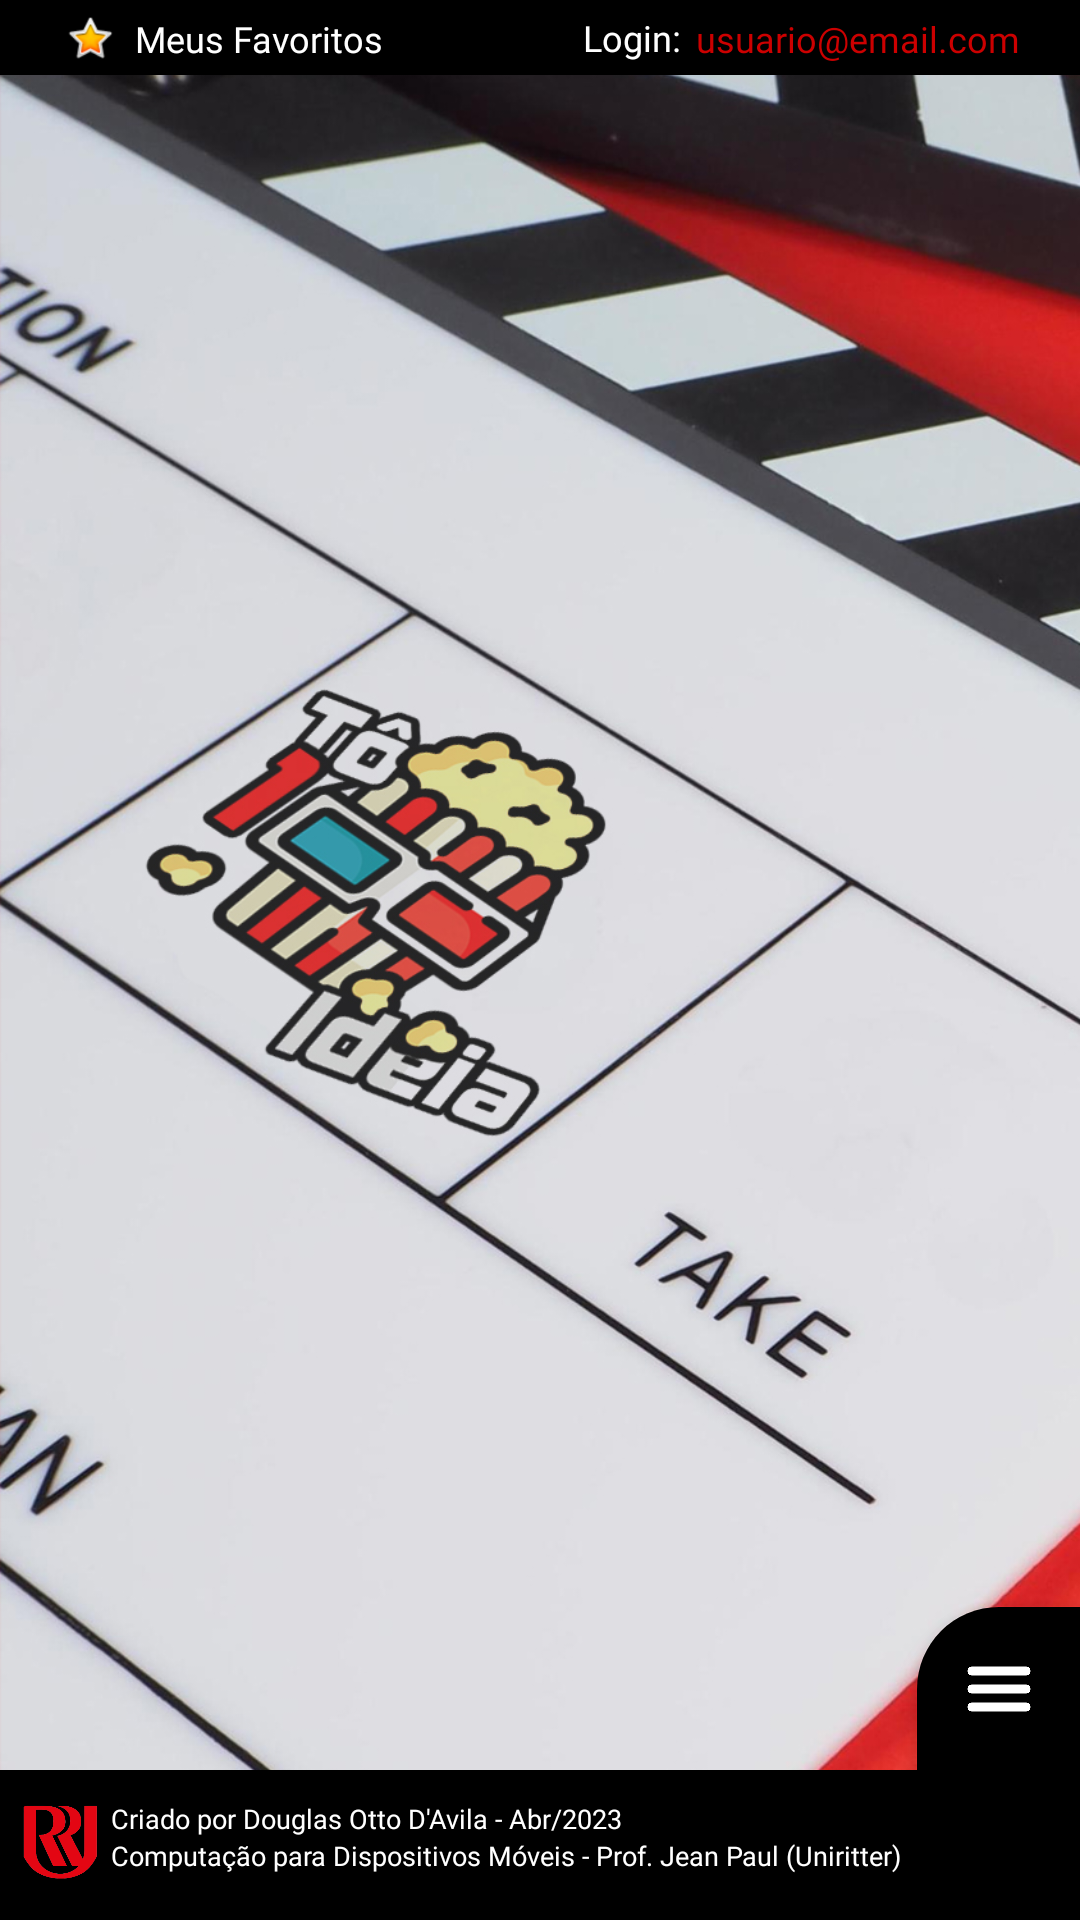

Locate icon controls on the screen. Image size 1080px x 1920px, boxes as box(x1, y1, x2, y2).
star on: box(69, 17, 112, 59)
